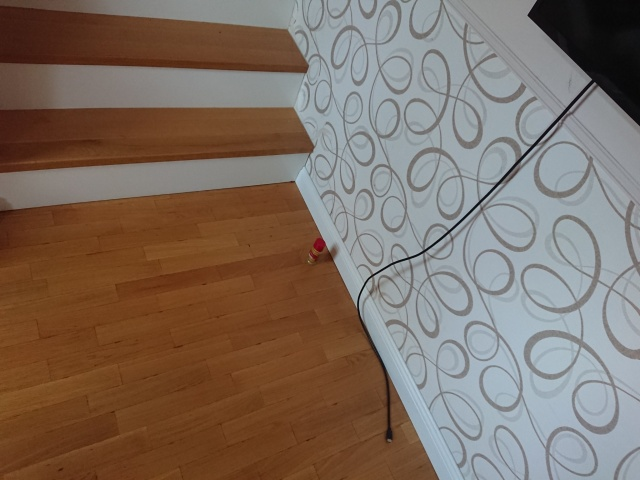Kotanyi Curry Spices Mix 70g: (303, 235, 328, 267)
